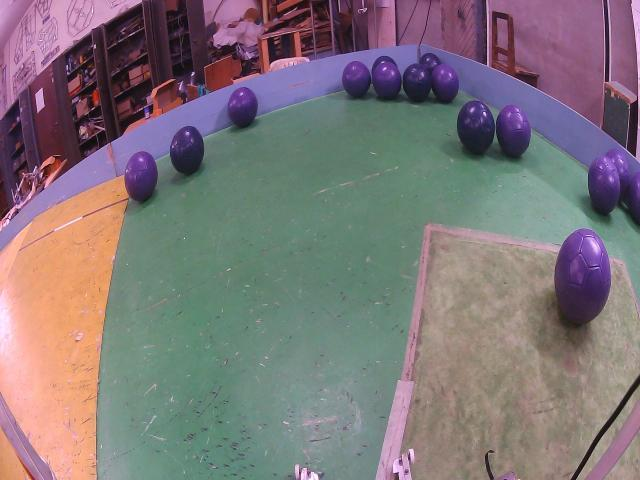jambhalya: (555, 228, 611, 325), (588, 157, 620, 215), (496, 105, 531, 157), (125, 152, 158, 202), (606, 148, 630, 199), (228, 87, 258, 127), (431, 63, 459, 103), (372, 62, 401, 100), (342, 62, 371, 98), (625, 172, 640, 224)
kaalyya: (456, 100, 495, 153), (170, 125, 204, 175), (402, 63, 431, 102), (371, 55, 398, 74), (420, 53, 441, 73)
